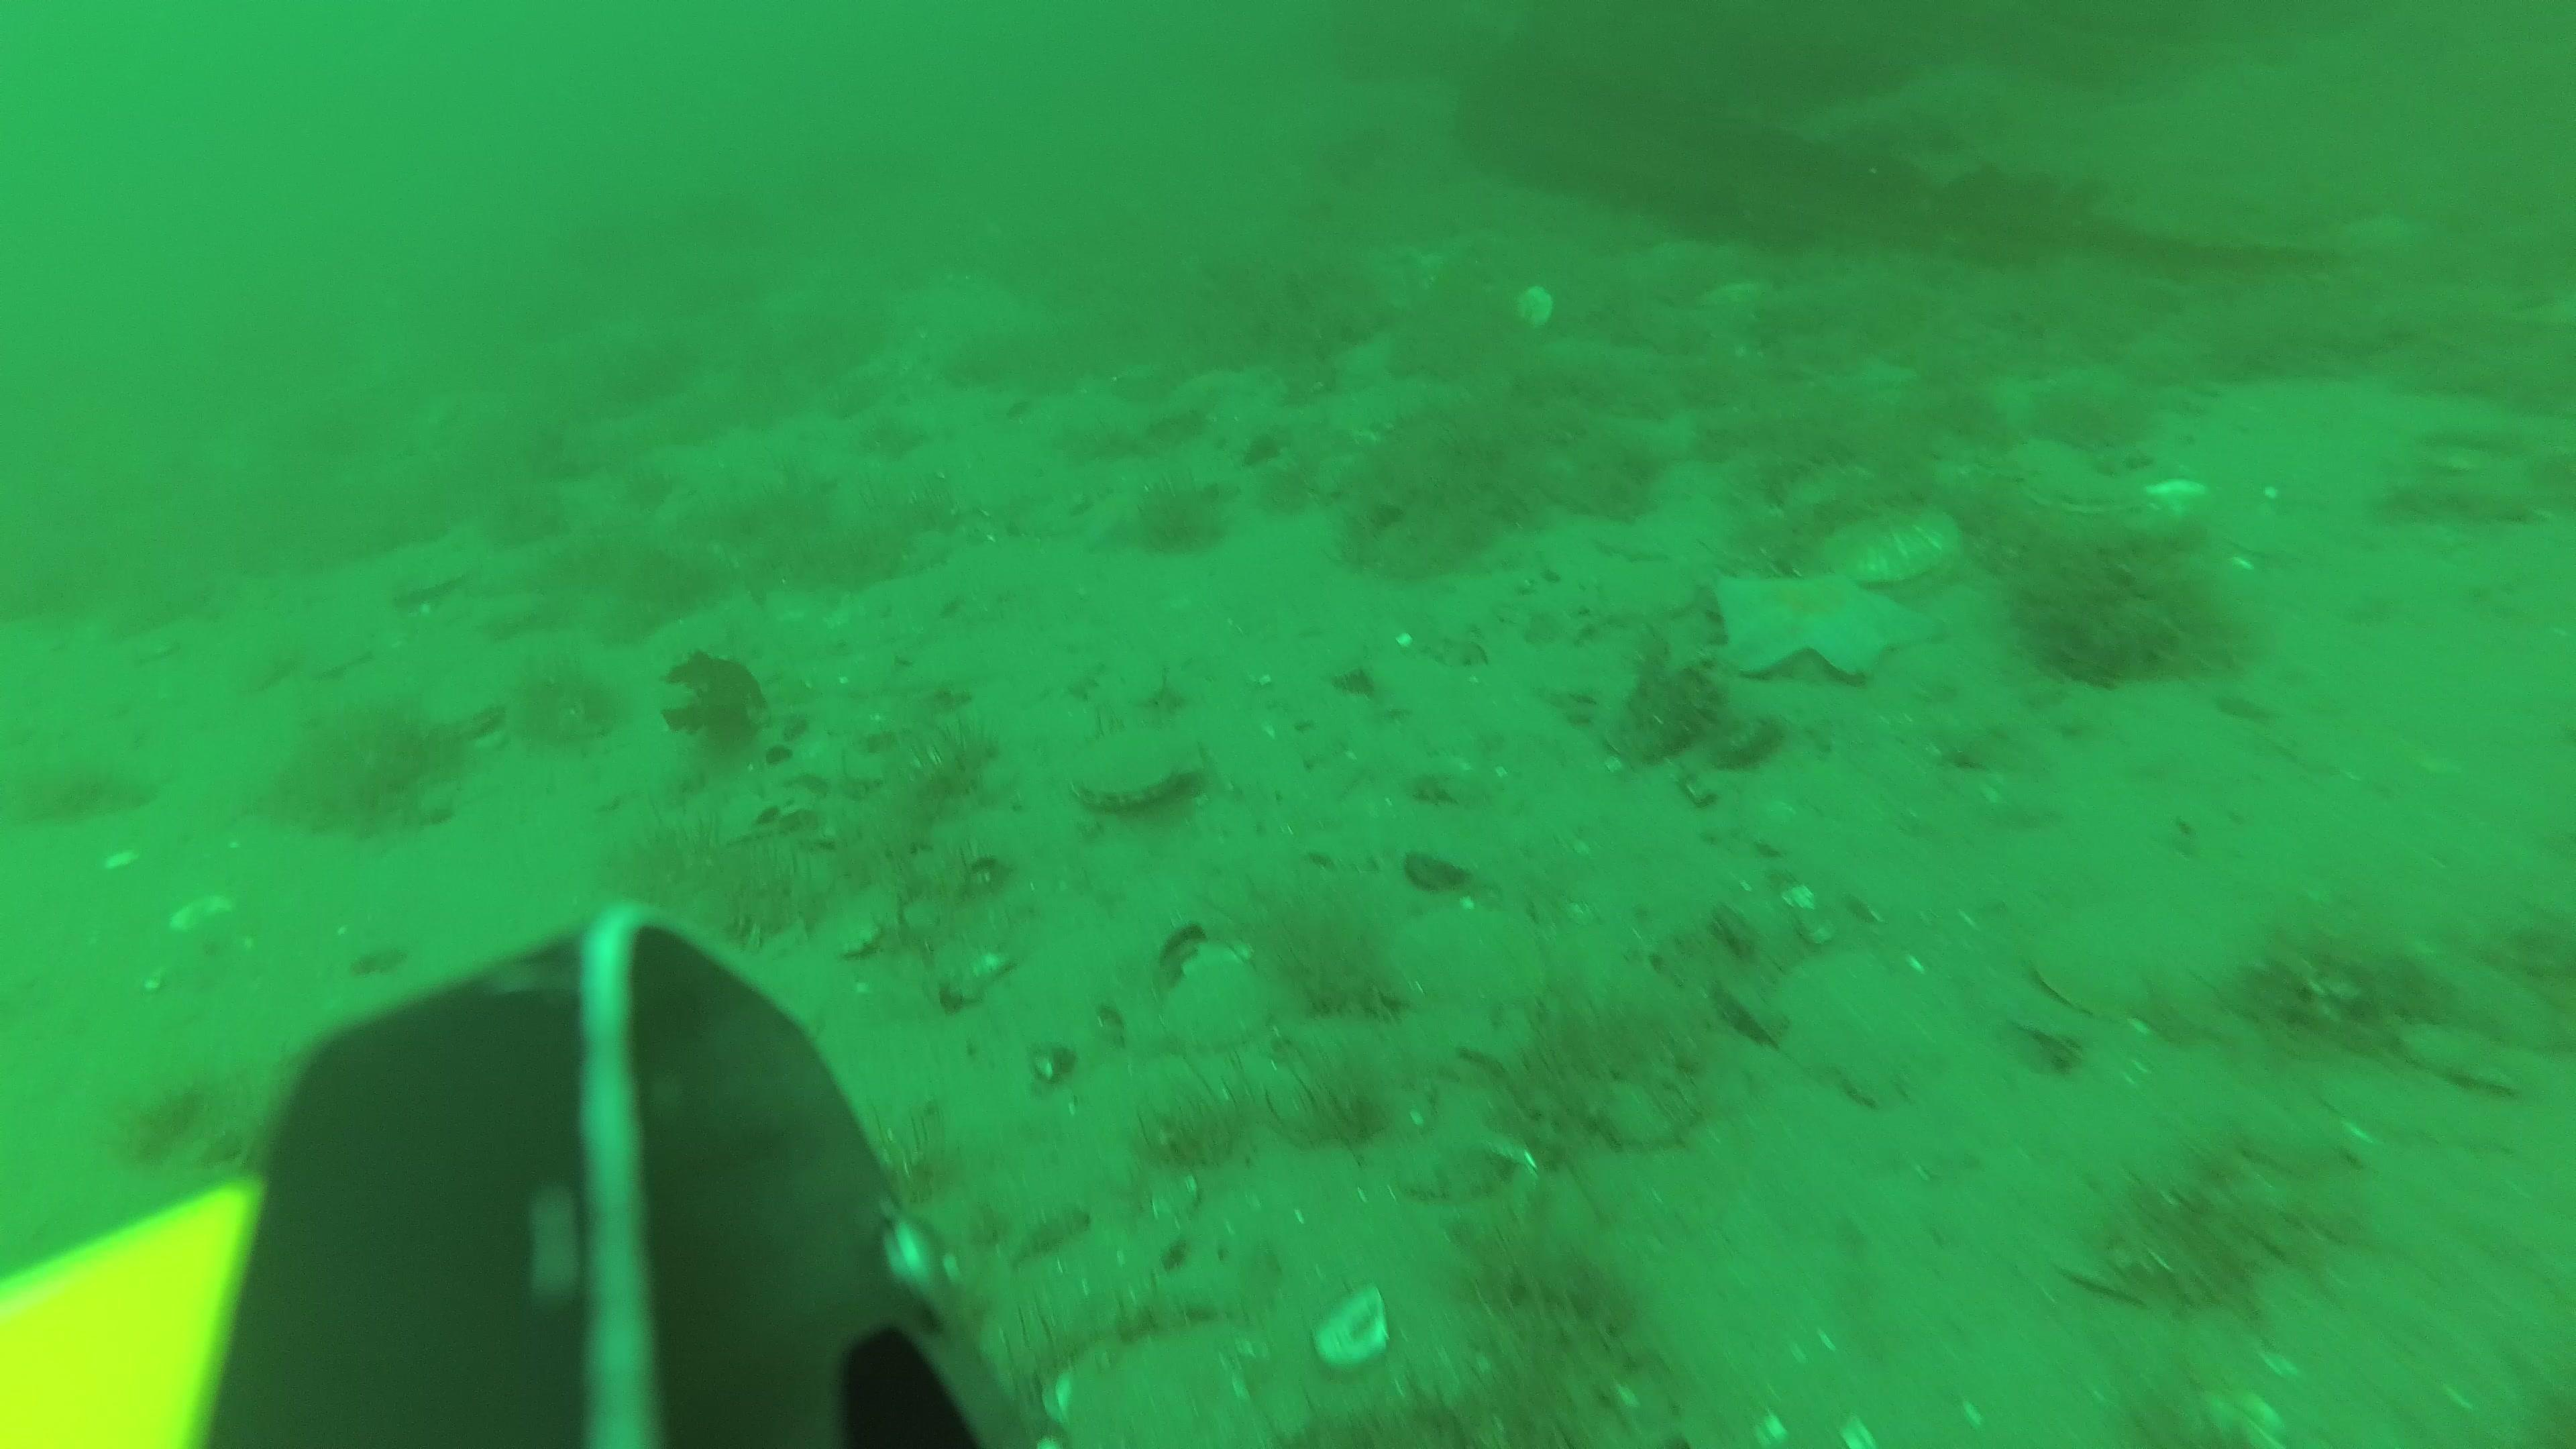scallop: (1039, 1304, 1269, 1449), (1072, 718, 1212, 812), (1997, 428, 2141, 515), (1824, 506, 1962, 586), (1509, 280, 1552, 334), (1709, 278, 1782, 306)
starfish: (1718, 571, 1927, 683)
